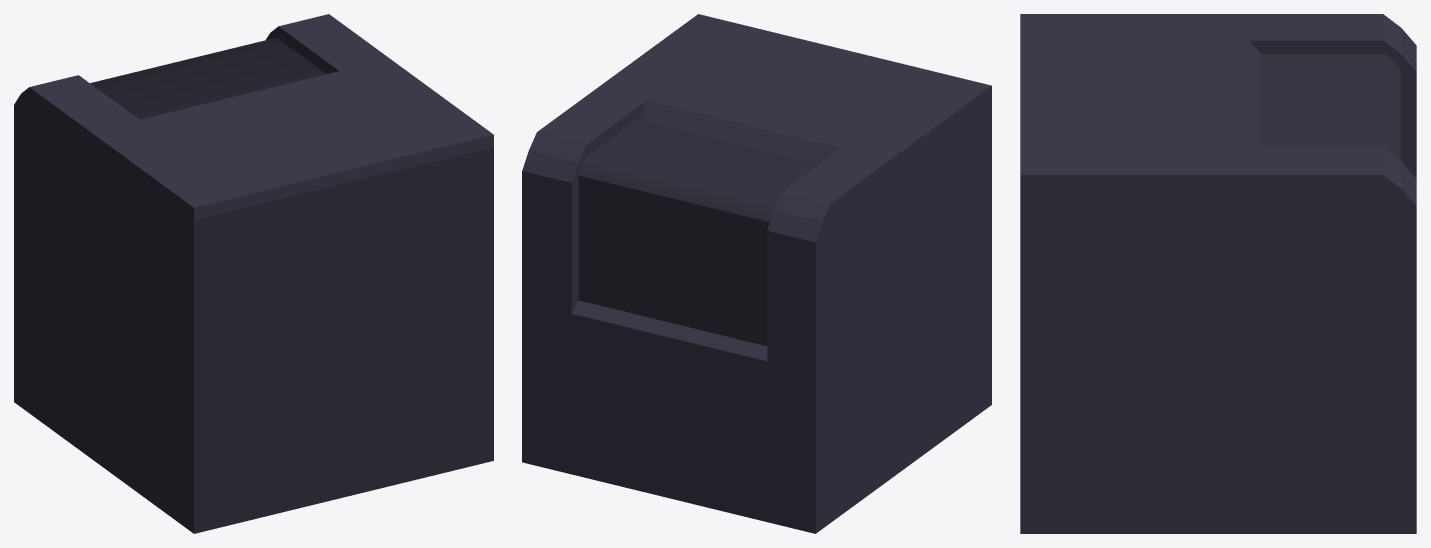
Rendered from wallStone.FBX.
3 renders of one model, left to right at view 1: azimuth 30°, elevation 25°; view 2: azimuth 150°, elevation 25°; view 3: azimuth 270°, elevation 25°, orthographic. The views are drawn at different scales.
Parts seen in each view (by area): view 1: wall; view 2: wall; view 3: wall.
Part boxes in pixels (x1,y1,x2,y2): wall: (14, 14, 493, 533); wall: (522, 14, 991, 533); wall: (1020, 14, 1416, 533).
Size of the model in its own units: 39.37 by 40.94 by 40.94.
